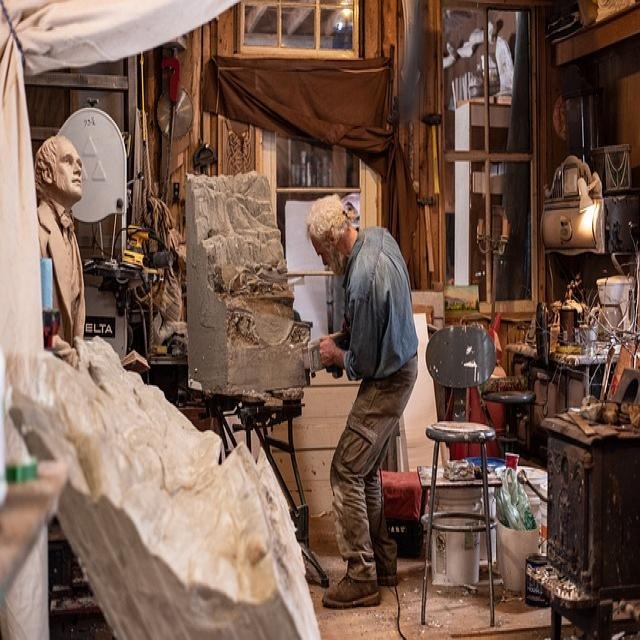Real human 2: (287, 186, 429, 627)
